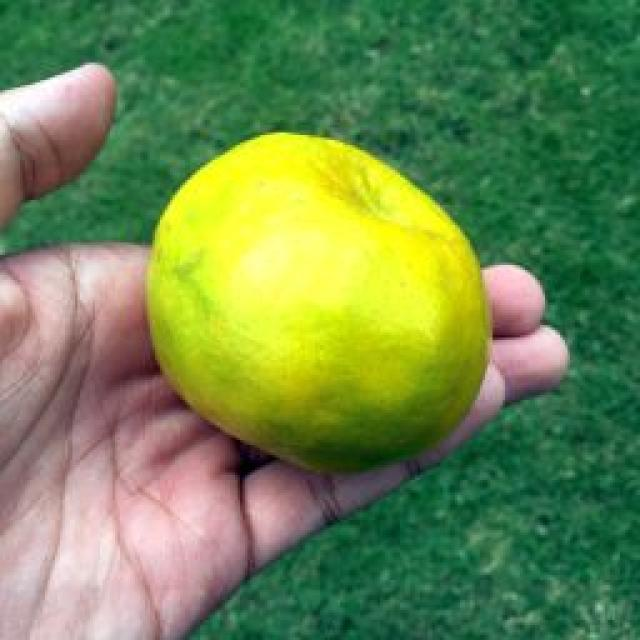lemon: (149, 135, 489, 469)
